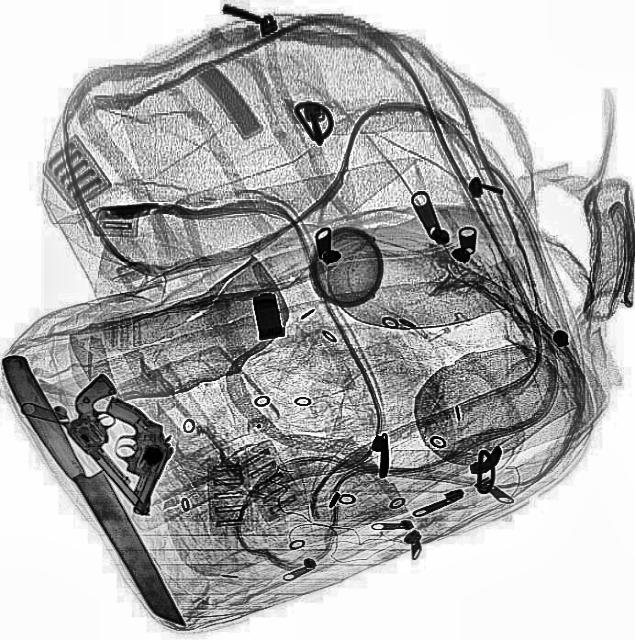Gun: (44, 370, 196, 516), (80, 394, 183, 518)
Knife: (0, 355, 190, 639)
